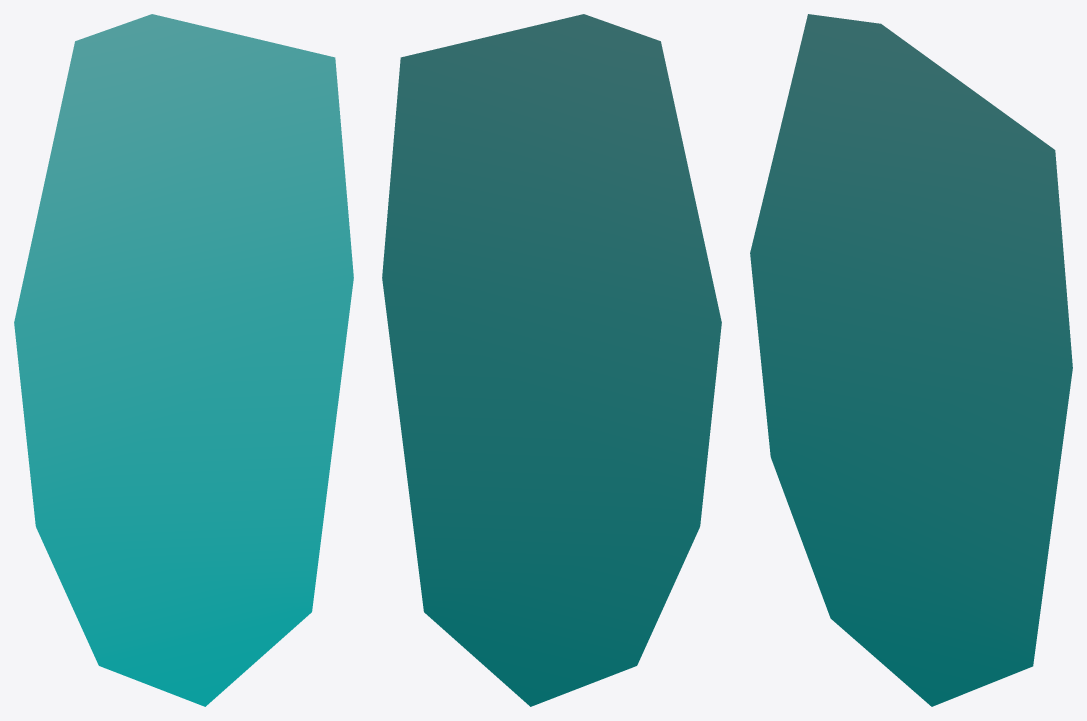
Rendered from vmcobd0ja_VarE_LOD3.fbx.
The picture shows the model from 3 angles, left to right: view 1: azimuth 30°, elevation 25°; view 2: azimuth 150°, elevation 25°; view 3: azimuth 330°, elevation 25°; orthographic projection. The views are drawn at different scales.
Visible parts, largest first — view 1: _m3vf_VarE_LOD4; view 2: _m3vf_VarE_LOD4; view 3: _m3vf_VarE_LOD4.
Part boxes in pixels (x1,y1,x2,y2): _m3vf_VarE_LOD4: (14, 14, 353, 706); _m3vf_VarE_LOD4: (382, 14, 721, 706); _m3vf_VarE_LOD4: (750, 14, 1072, 706).
Bounding box in the file's own units: 37.56 × 74.57 × 0.
